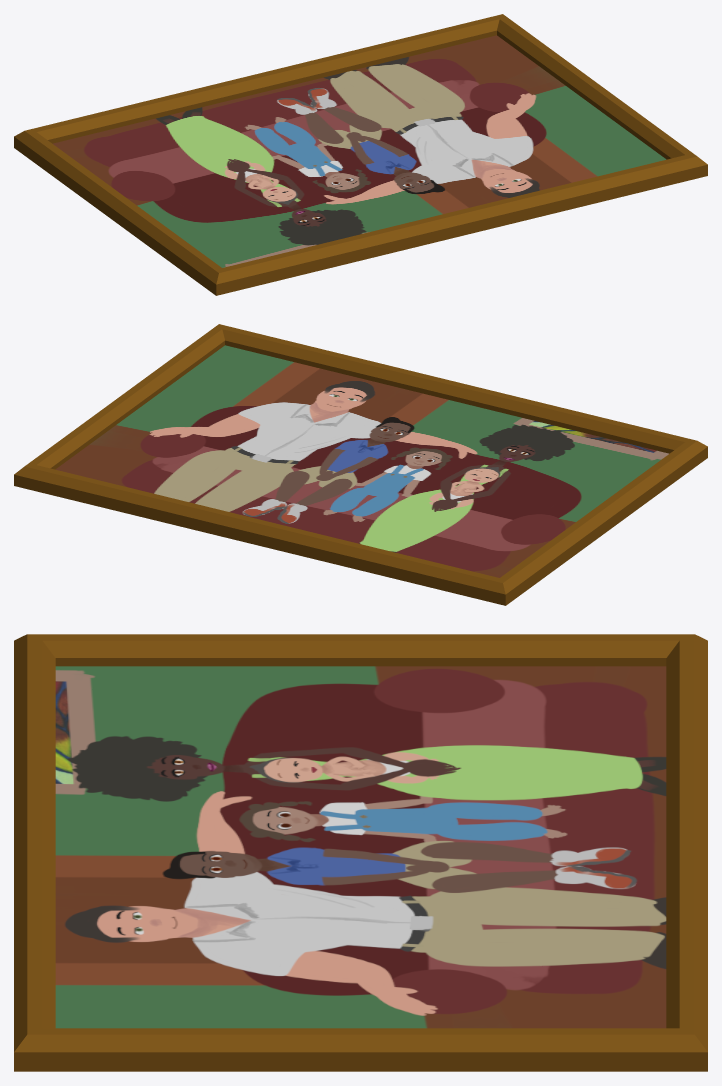
The model's file is familyPhoto.glb.
3 renders of one model, top to bottom at view 1: azimuth 30°, elevation 25°; view 2: azimuth 150°, elevation 25°; view 3: azimuth 270°, elevation 25°, orthographic. The views are drawn at different scales.
Visible parts, largest first — view 1: familyPhoto; view 2: familyPhoto; view 3: familyPhoto.
Boxes of the visible parts, x1=… form: familyPhoto: x1=14, y1=14, x2=707, y2=295; familyPhoto: x1=14, y1=324, x2=707, y2=605; familyPhoto: x1=14, y1=634, x2=707, y2=1071.
Size of the model in its own units: 2.81 by 0.1 by 2.
2 materials, 1 textured.
